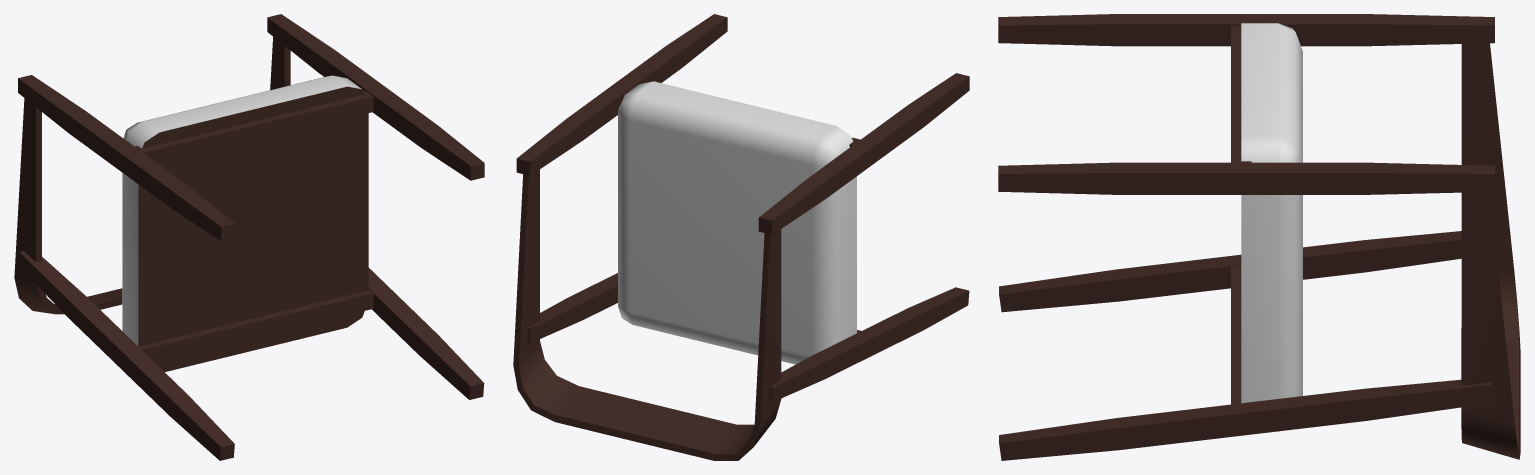
File: visitor-chair.glb
The picture shows the model from 3 angles, left to right: view 1: azimuth 30°, elevation 25°; view 2: azimuth 150°, elevation 25°; view 3: azimuth 270°, elevation 25°; orthographic projection. The views are drawn at different scales.
Parts seen in each view (by area): view 1: lounge_chair_002; view 2: lounge_chair_002; view 3: lounge_chair_002.
Boxes of the visible parts, box(x1,y1,x2,y2) form: lounge_chair_002: box(14, 14, 484, 460); lounge_chair_002: box(513, 14, 969, 460); lounge_chair_002: box(998, 14, 1520, 460).
Bounding box in the file's own units: 0.6877 × 0.6516 × 0.9555.
1 material, 1 textured.
